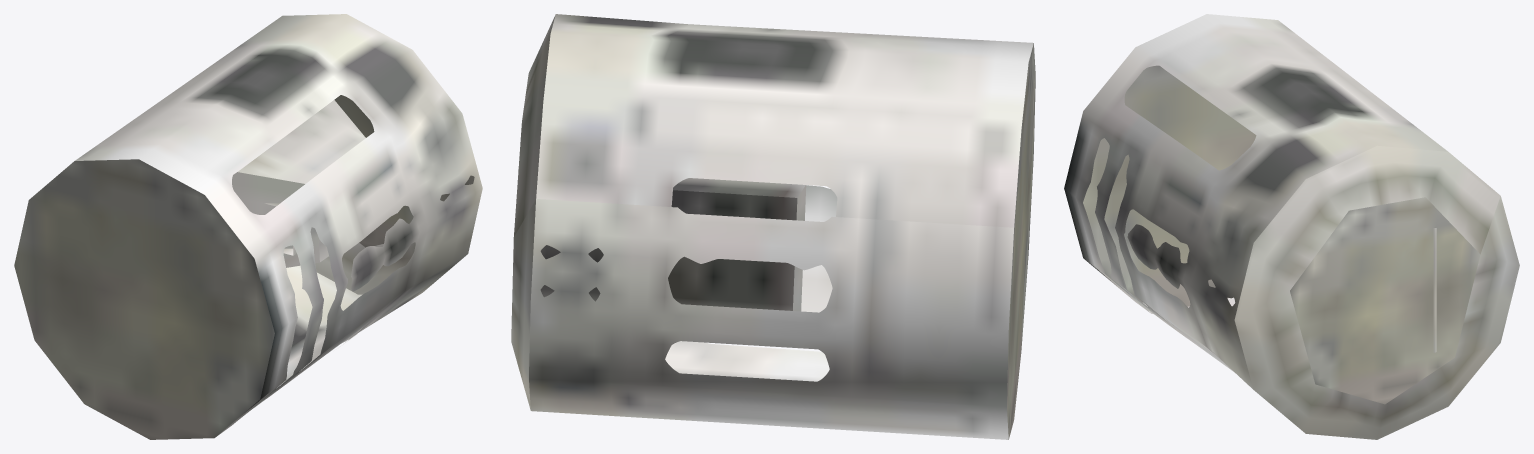
The model's file is poi_r5_torso_l2.fbx.
The picture shows the model from 3 angles, left to right: view 1: azimuth 30°, elevation 25°; view 2: azimuth 150°, elevation 25°; view 3: azimuth 270°, elevation 25°; orthographic projection. The views are drawn at different scales.
Visible parts, largest first — view 1: mesh_node; view 2: mesh_node; view 3: mesh_node.
Part boxes in pixels (x1,y1,x2,y2): mesh_node: (14,14,482,439); mesh_node: (511,14,1035,439); mesh_node: (1064,14,1519,439).
Size of the model in its own units: 0.6692 by 0.4598 by 0.6298.
1 material, 1 textured.
